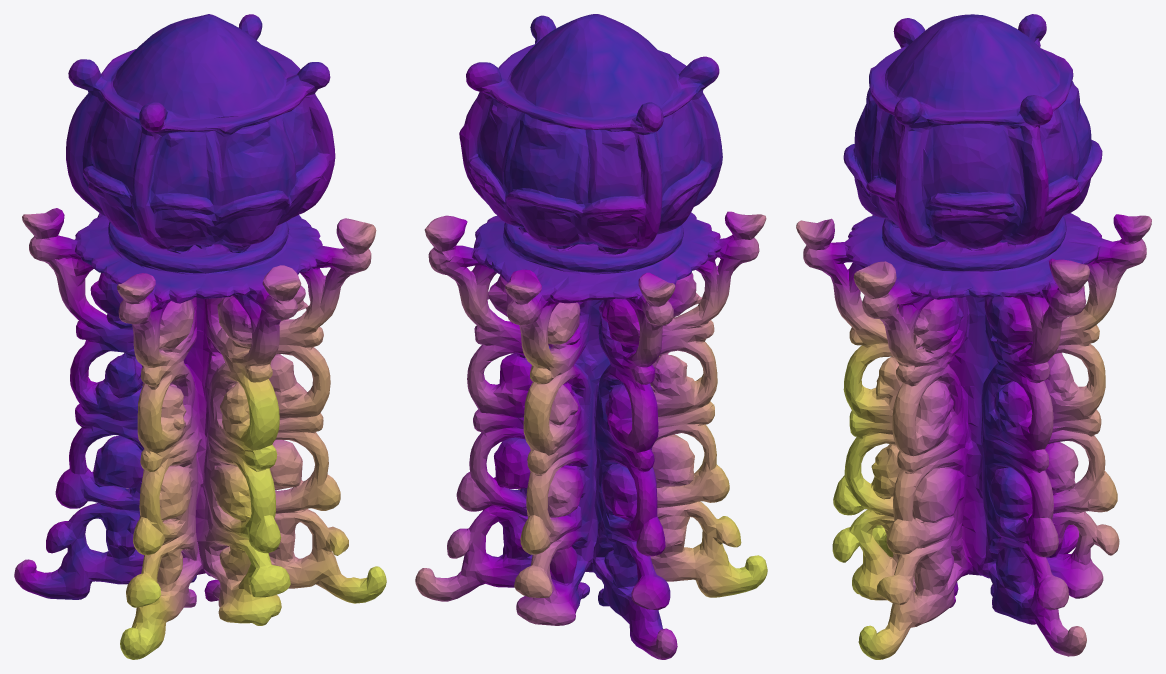
File: iter_8.glb
3 views of the same model, side by side, from view 1: azimuth 30°, elevation 25°; view 2: azimuth 150°, elevation 25°; view 3: azimuth 270°, elevation 25° (orthographic). The views are drawn at different scales.
Visible parts, largest first — view 1: textured_mesh; view 2: textured_mesh; view 3: textured_mesh.
Part boxes in pixels (<box>): textured_mesh: <box>14,14,386,659</box>; textured_mesh: <box>415,14,767,659</box>; textured_mesh: <box>796,14,1151,659</box>.
Size of the model in its own units: 0.9534 by 1.99 by 1.08.
